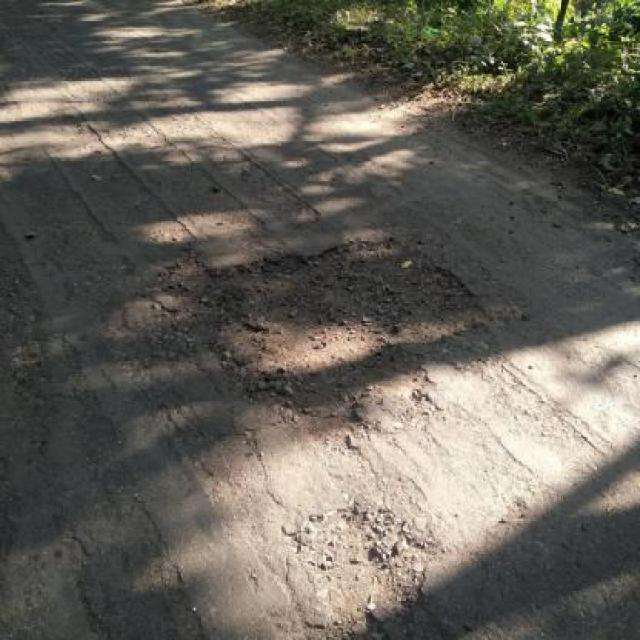Pothole: (162, 239, 492, 446), (288, 504, 434, 638)
